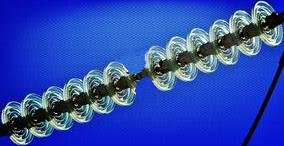gap: (102, 45, 176, 108)
